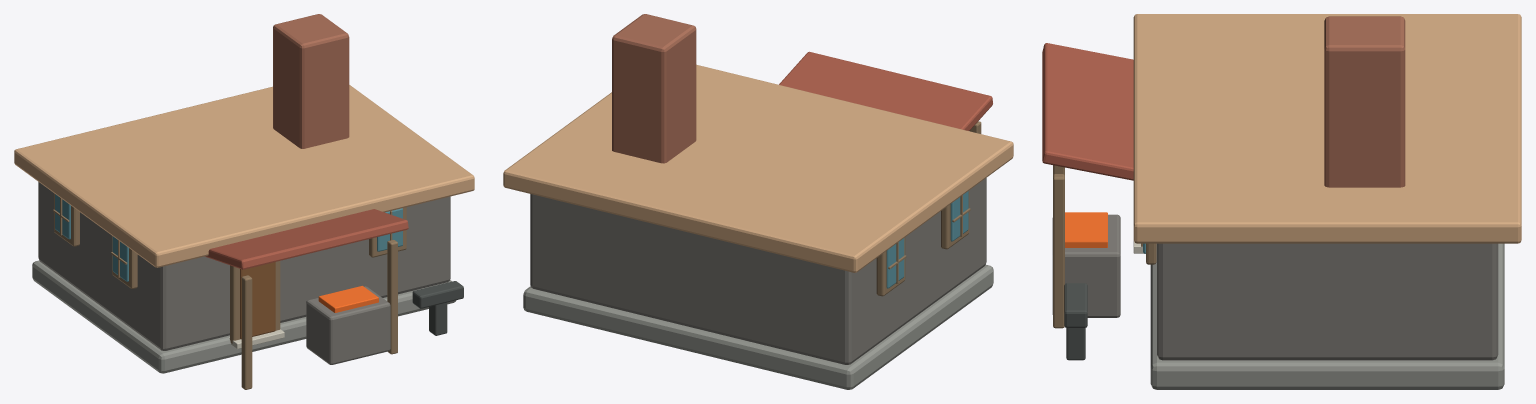
File: arid-smithy-0.glb
The picture shows the model from 3 angles, left to right: view 1: azimuth 30°, elevation 25°; view 2: azimuth 150°, elevation 25°; view 3: azimuth 270°, elevation 25°; orthographic projection. The views are drawn at different scales.
Parts seen in each view (by area): view 1: Adobe cream, Soot stone, Chimney brick, Foundation stone, Clay tiles, Palm beams, Door oak, Forged iron, Blue glass, Forge ember; view 2: Adobe cream, Soot stone, Foundation stone, Chimney brick, Clay tiles, Palm beams, Blue glass; view 3: Adobe cream, Soot stone, Chimney brick, Foundation stone, Clay tiles, Palm beams, Forged iron, Forge ember.
Part boxes in pixels (bbox=[...]): Adobe cream: bbox=[14, 85, 474, 267]; Soot stone: bbox=[38, 182, 450, 364]; Chimney brick: bbox=[273, 14, 349, 148]; Foundation stone: bbox=[32, 260, 456, 373]; Clay tiles: bbox=[205, 209, 408, 269]; Palm beams: bbox=[53, 193, 406, 389]; Door oak: bbox=[240, 262, 275, 339]; Forged iron: bbox=[412, 281, 463, 335]; Blue glass: bbox=[55, 194, 402, 281]; Forge ember: bbox=[318, 285, 378, 312]; Adobe cream: bbox=[503, 64, 1013, 272]; Soot stone: bbox=[530, 178, 986, 364]; Foundation stone: bbox=[523, 265, 993, 389]; Chimney brick: bbox=[612, 14, 696, 163]; Clay tiles: bbox=[779, 51, 992, 130]; Palm beams: bbox=[876, 121, 981, 296]; Blue glass: bbox=[886, 191, 968, 288]; Adobe cream: bbox=[1133, 14, 1521, 243]; Soot stone: bbox=[1052, 214, 1498, 360]; Chimney brick: bbox=[1324, 16, 1405, 187]; Foundation stone: bbox=[1150, 243, 1504, 389]; Clay tiles: bbox=[1042, 43, 1133, 180]; Palm beams: bbox=[1053, 165, 1156, 328]; Forged iron: bbox=[1064, 283, 1087, 360]; Forge ember: bbox=[1065, 212, 1107, 247].
Bounding box in the file's own units: 4.69 × 3.28 × 4.5.
